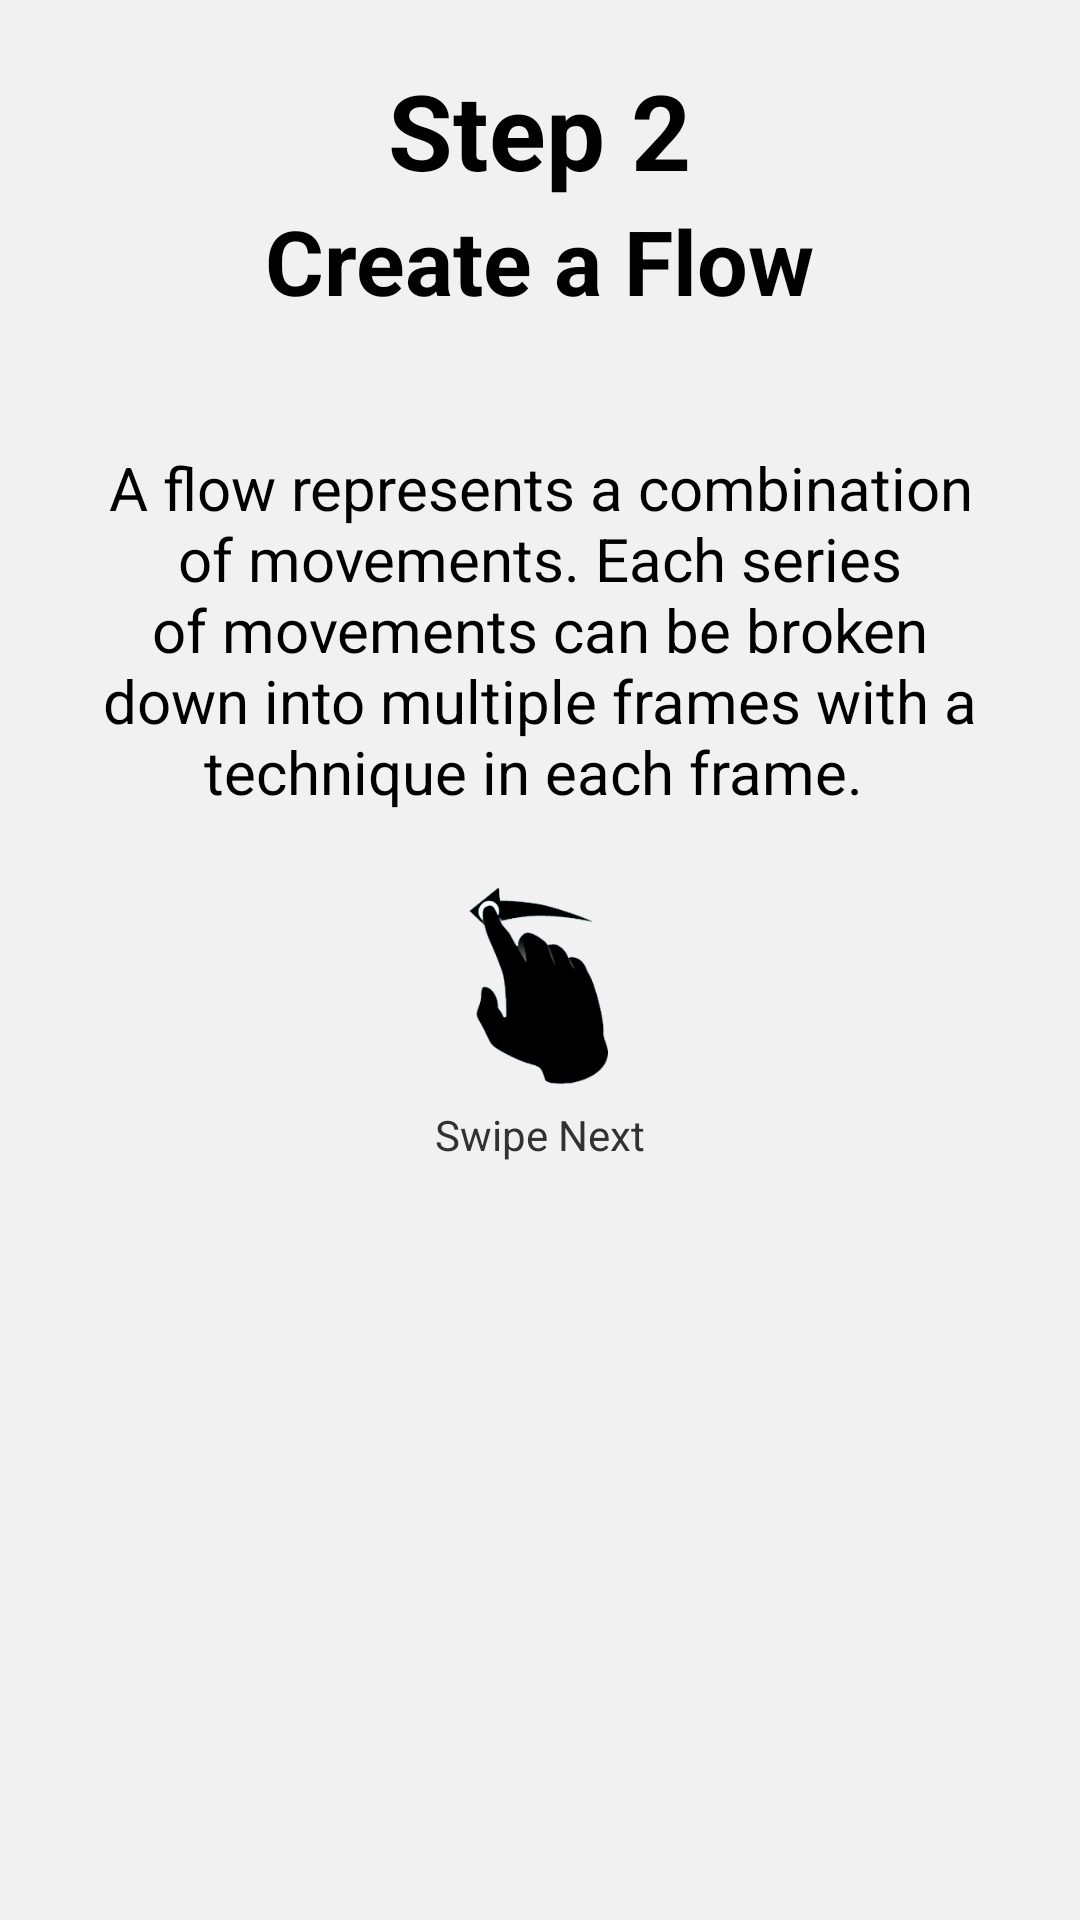

Named icons in this screenshot (1080 × 1920) and their bounding boxes, (x1, y1, x2, y2):
swipe left: (469, 888, 608, 1084)
